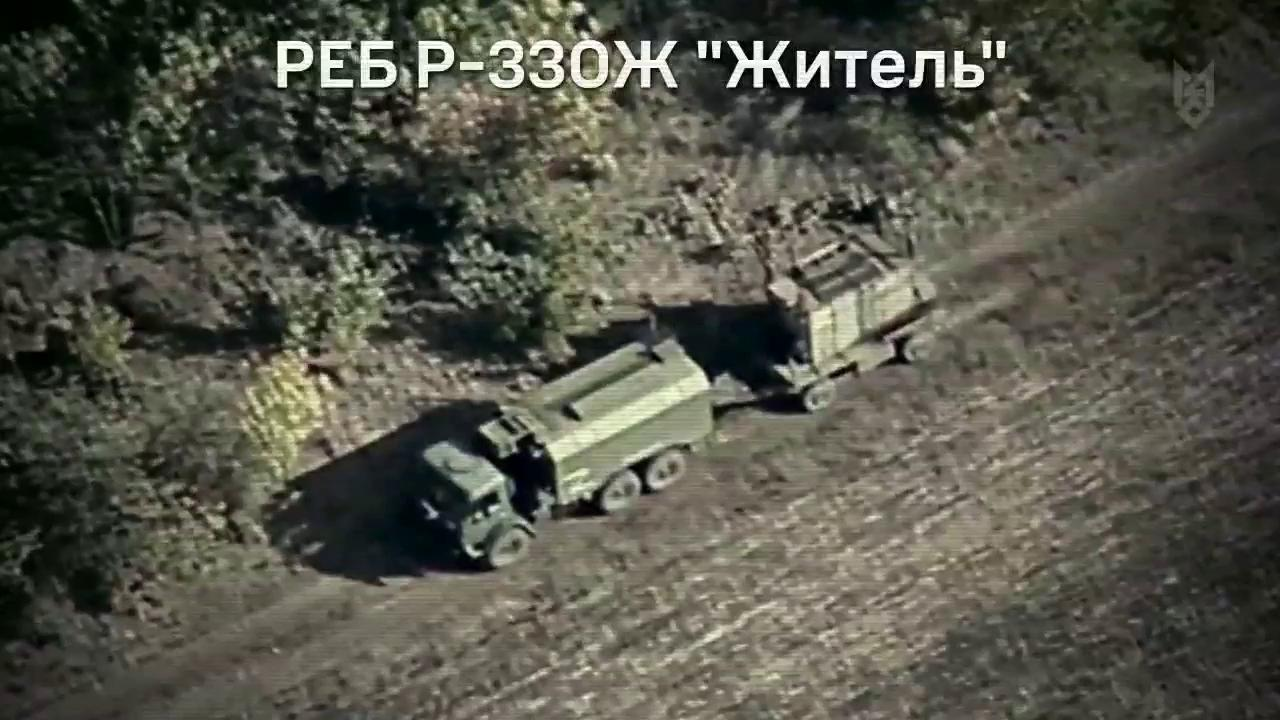tank: (400, 333, 738, 571), (744, 225, 950, 429)
